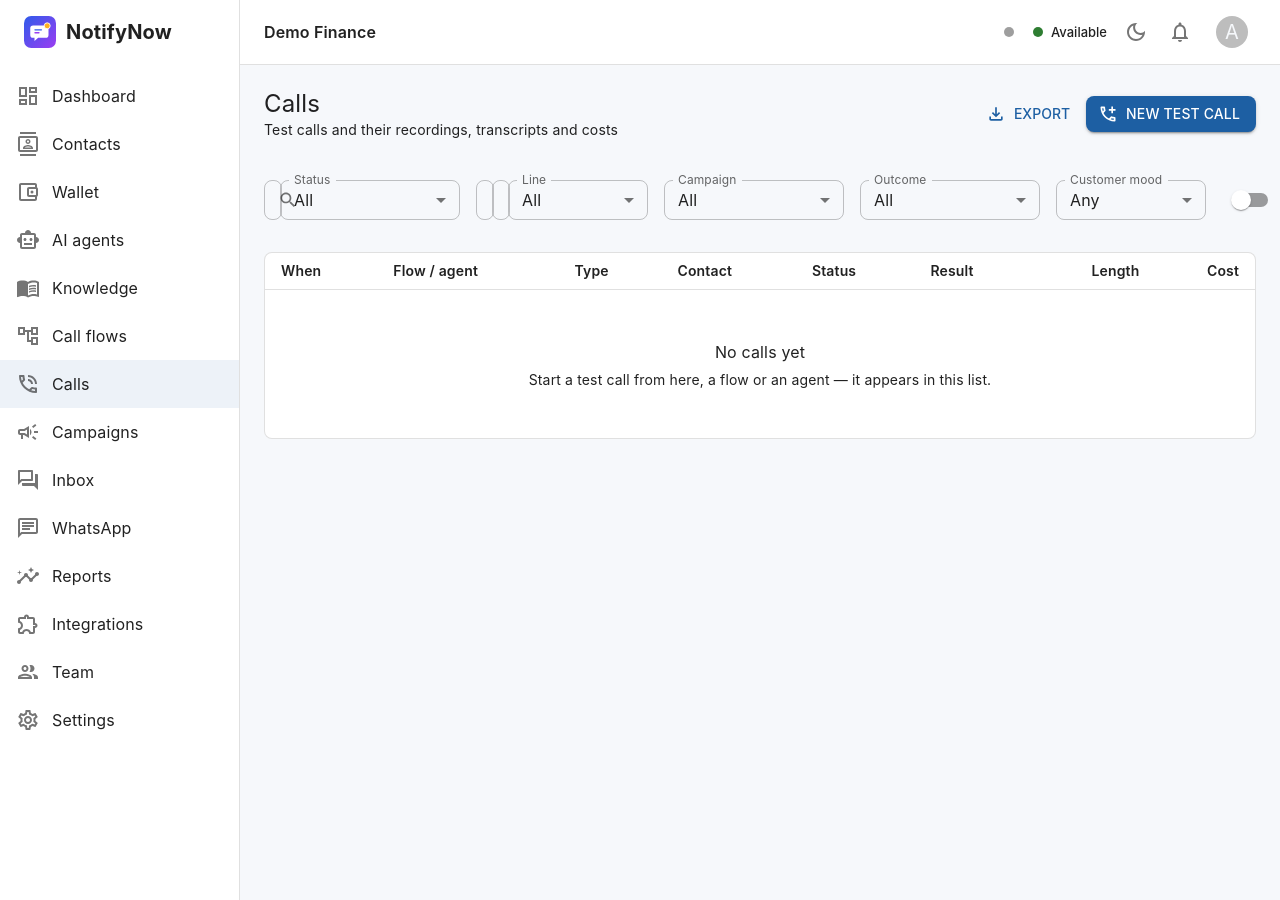
Test case: calls export › keeps full phones off without contacts.export and shows server errors
This screenshot has width=1280, height=900.
Click the button "Export" at (1030, 114), box [982,96,1078,132]
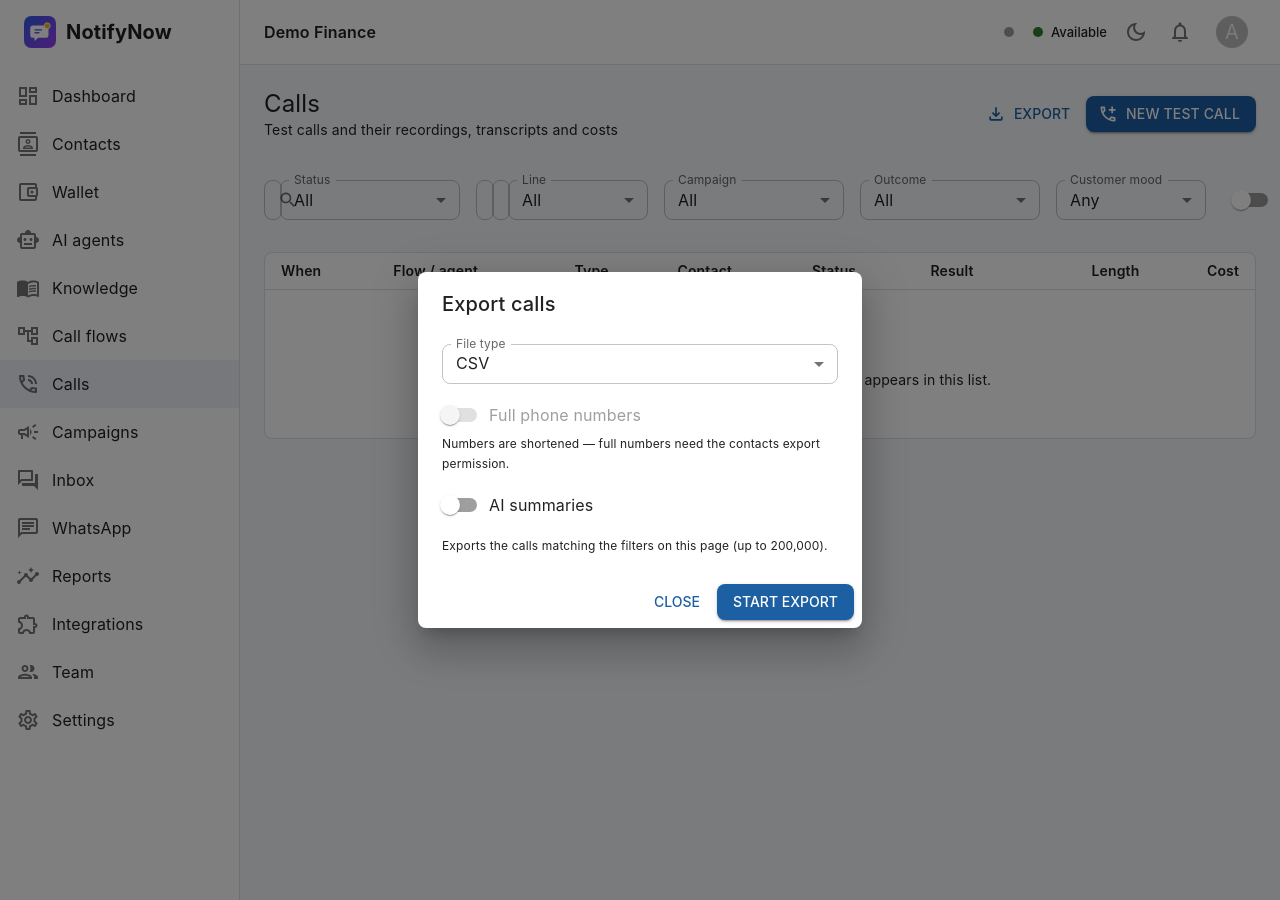
Expected: the switch labelled "Full phone numbers" is disabled, [440,405,641,425]
Expected: the text "Numbers are shortened" is shown, [442,436,820,471]
Click the button "Start export" at (786, 602), box [717,584,854,620]
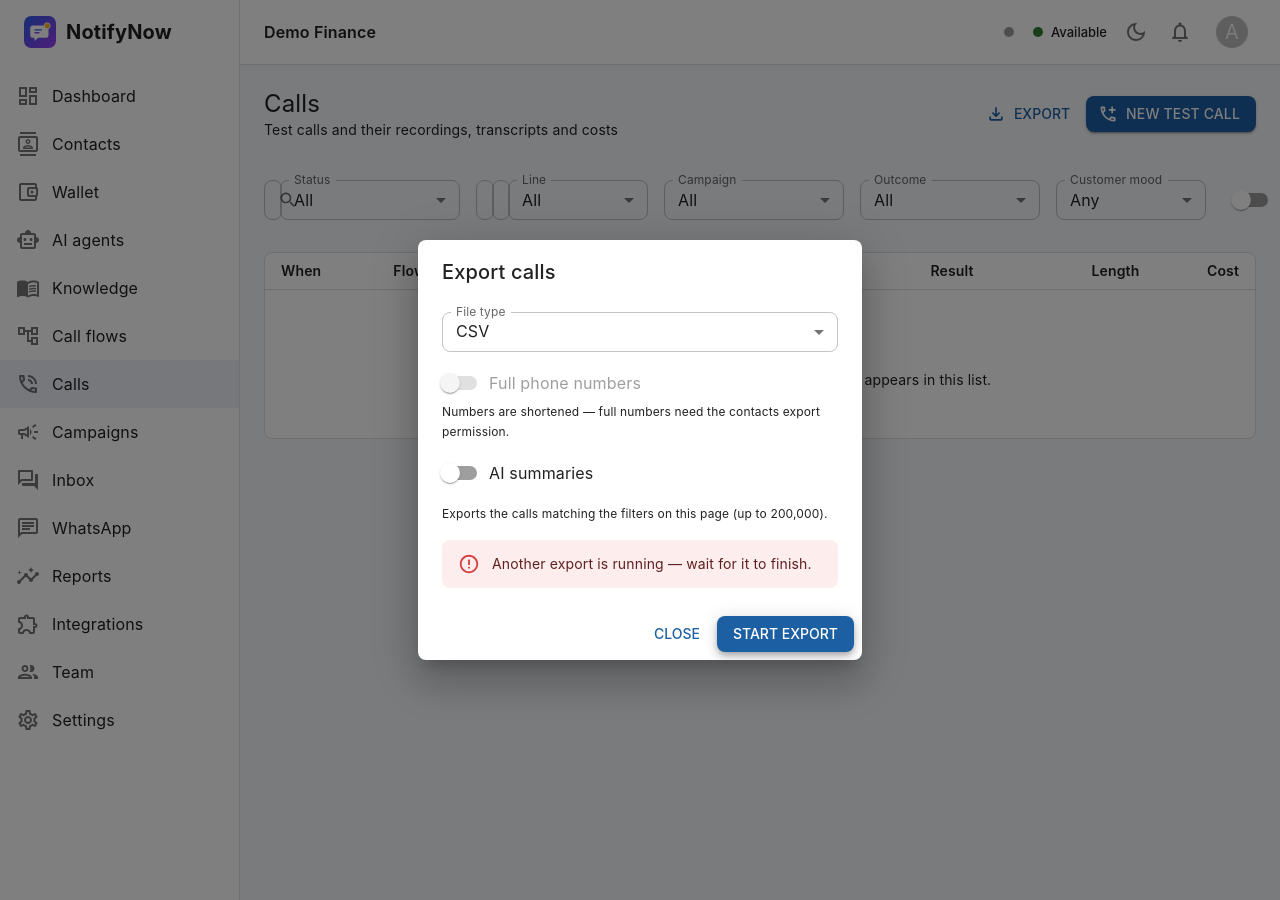
Expected: the text "Another export is running — wait for it to finish." is shown, [492,555,812,572]
